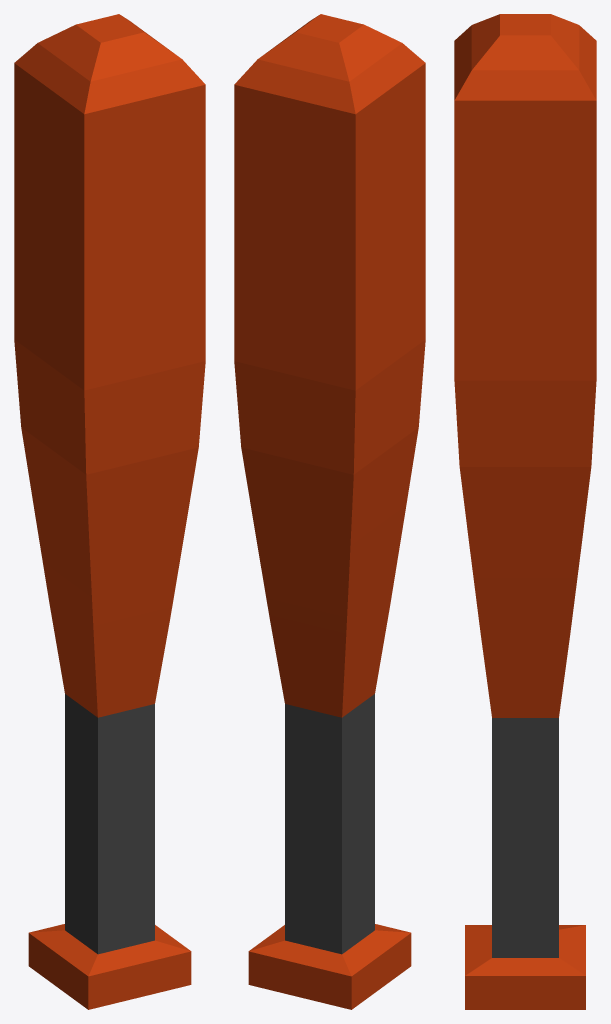
File: bat.obj
The picture shows the model from 3 angles, left to right: view 1: azimuth 30°, elevation 25°; view 2: azimuth 150°, elevation 25°; view 3: azimuth 270°, elevation 25°; orthographic projection.
Visible parts, largest first — view 1: Cube.001; view 2: Cube.001; view 3: Cube.001.
Boxes of the visible parts, left/top/right/bottom form: Cube.001: left=14, top=14, right=205, bottom=1009; Cube.001: left=234, top=14, right=425, bottom=1009; Cube.001: left=454, top=14, right=596, bottom=1009.
Bounding box in the file's own units: 0.3179 × 2.39 × 0.3179.
